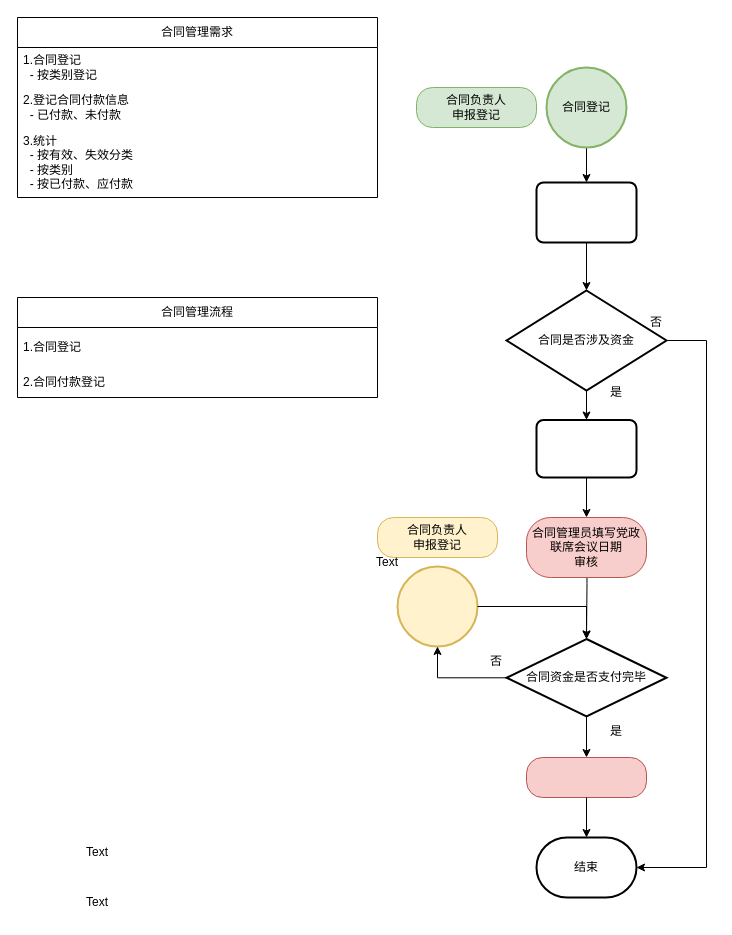
Image size: 732x935. Some labels were removed from this diagram. Each missing label, with the centre of its shape:
合同管理员审核: the point at 586,777
合同负责人填写 合同登记表: the point at 586,212
推送合同资金支付登记表: the point at 586,448
资金支付登记: the point at 437,606
